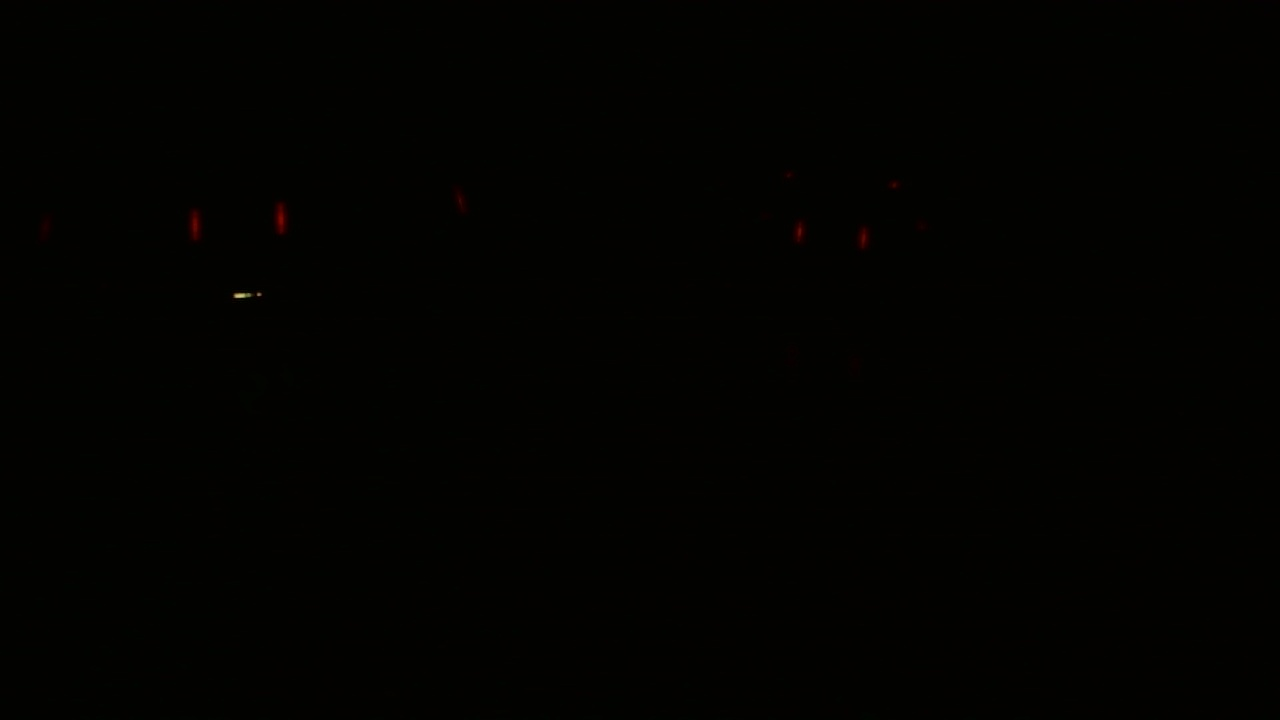pair1: (176, 188, 297, 251)
pair2: (787, 214, 876, 259)
